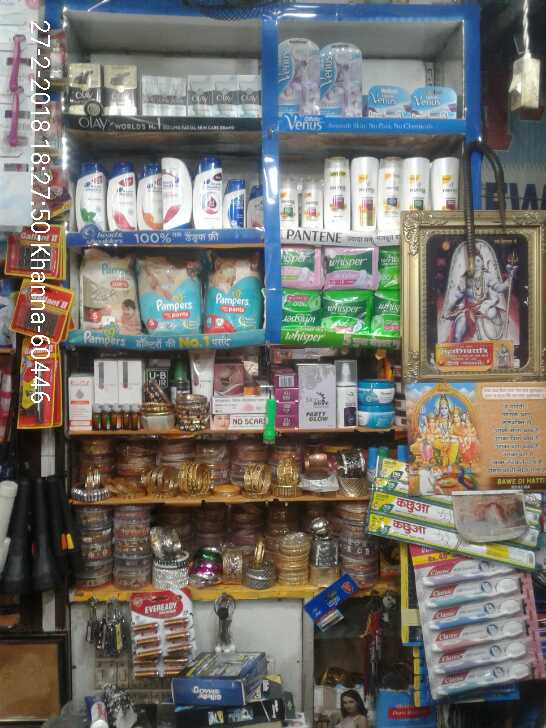venus: (320, 41, 362, 112), (279, 40, 320, 112), (409, 87, 458, 117), (370, 85, 409, 117)
